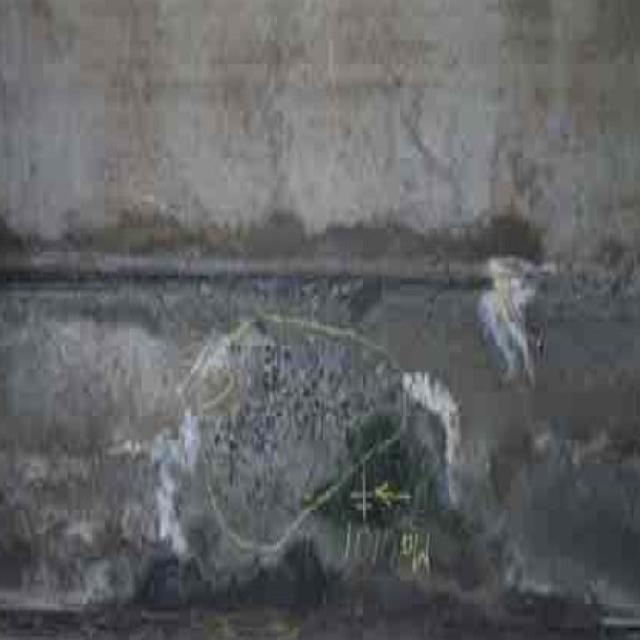freelime: (123, 380, 208, 587), (393, 362, 466, 507), (476, 245, 550, 368)
